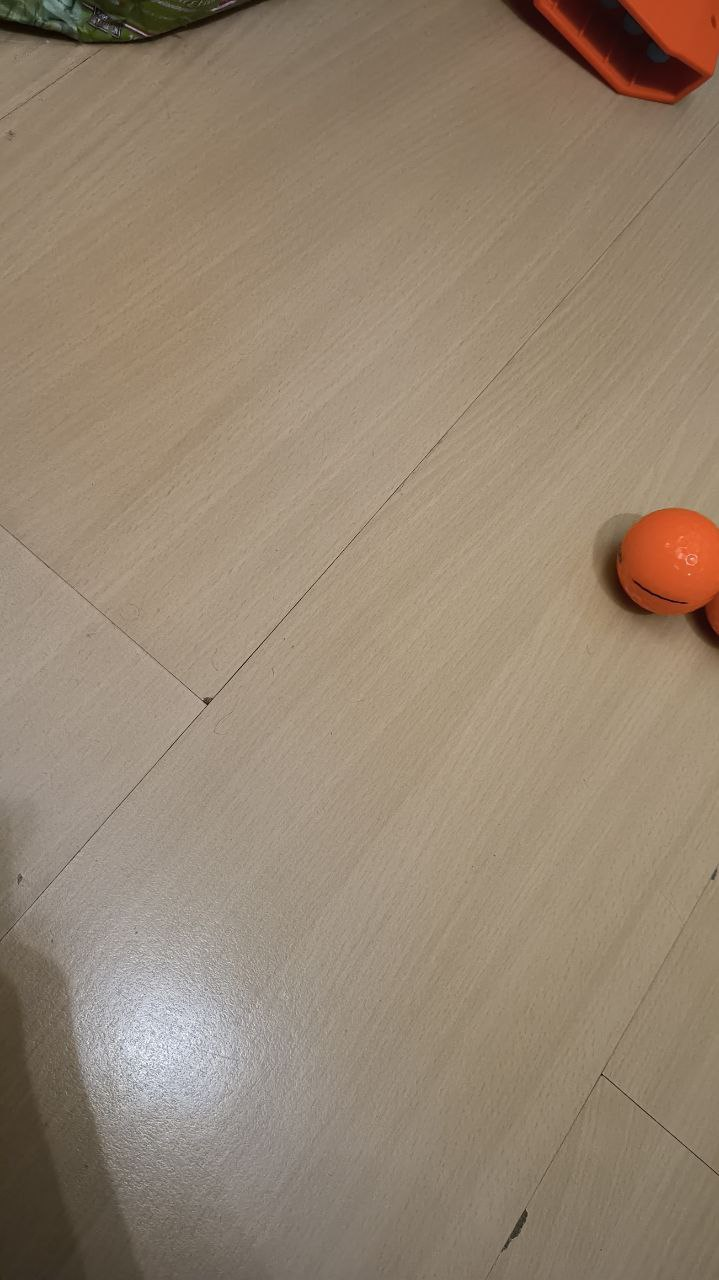orange_ball: (615, 507, 719, 615)
